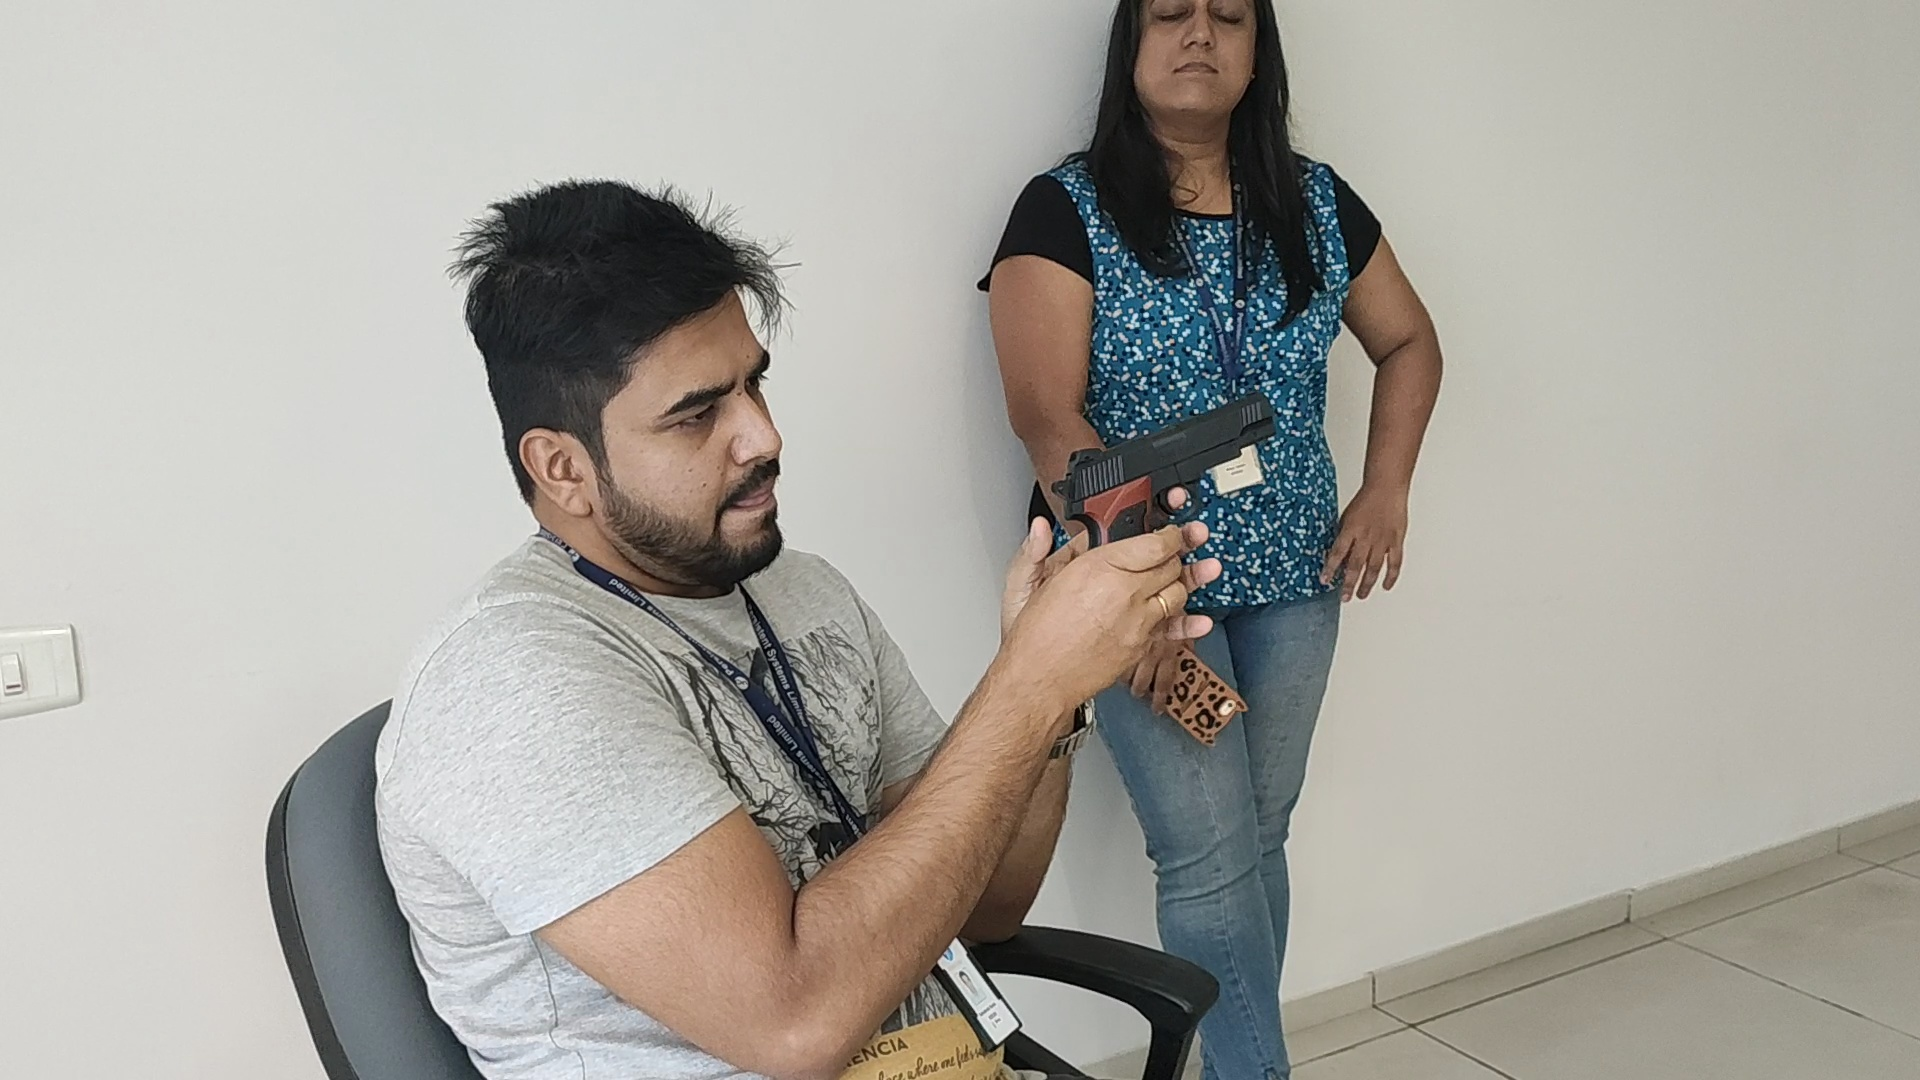gun: (1051, 392, 1276, 518)
